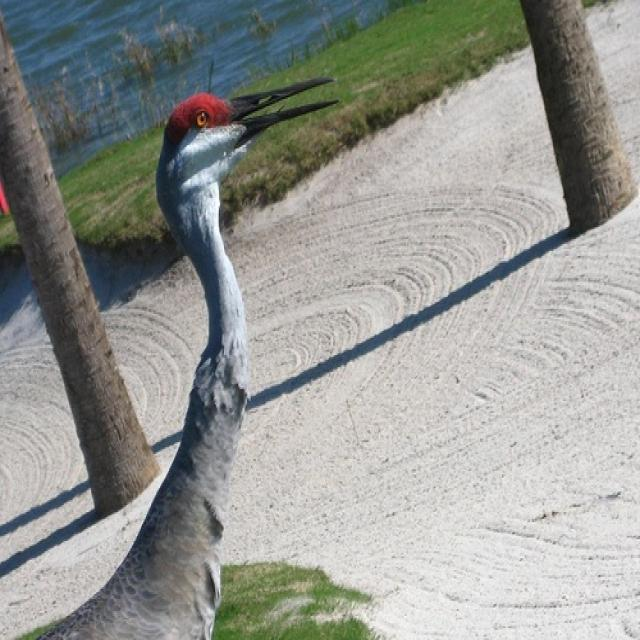bird: (34, 76, 340, 639)
